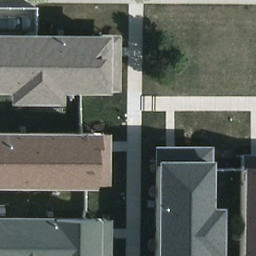car: (0, 15, 41, 34)
